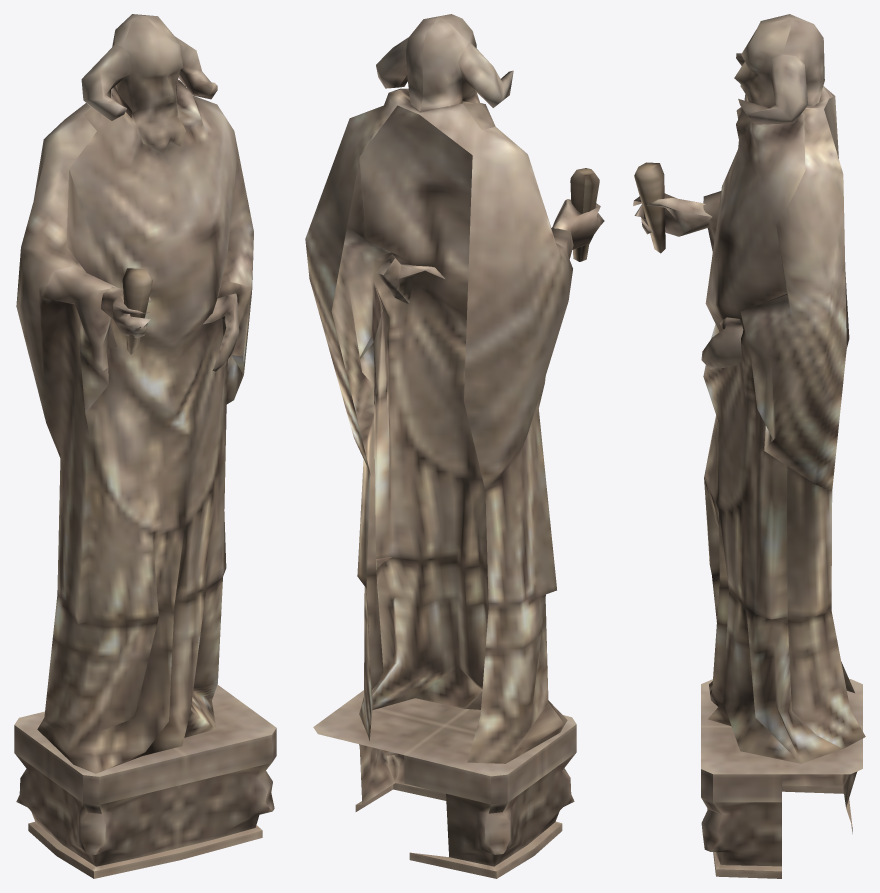
The model's file is SM_zhucheng_Man_Statue_01_torch.FBX.
The picture shows the model from 3 angles, left to right: view 1: azimuth 30°, elevation 25°; view 2: azimuth 150°, elevation 25°; view 3: azimuth 270°, elevation 25°; orthographic projection.
Visible parts, largest first — view 1: SM_zhucheng_Man_Statue_01_torch; view 2: SM_zhucheng_Man_Statue_01_torch; view 3: SM_zhucheng_Man_Statue_01_torch.
Part boxes in pixels (bbox=[...]): SM_zhucheng_Man_Statue_01_torch: bbox=[14, 14, 276, 878]; SM_zhucheng_Man_Statue_01_torch: bbox=[305, 14, 604, 878]; SM_zhucheng_Man_Statue_01_torch: bbox=[633, 14, 865, 878].
Bounding box in the file's own units: 48.65 × 159 × 41.02.
